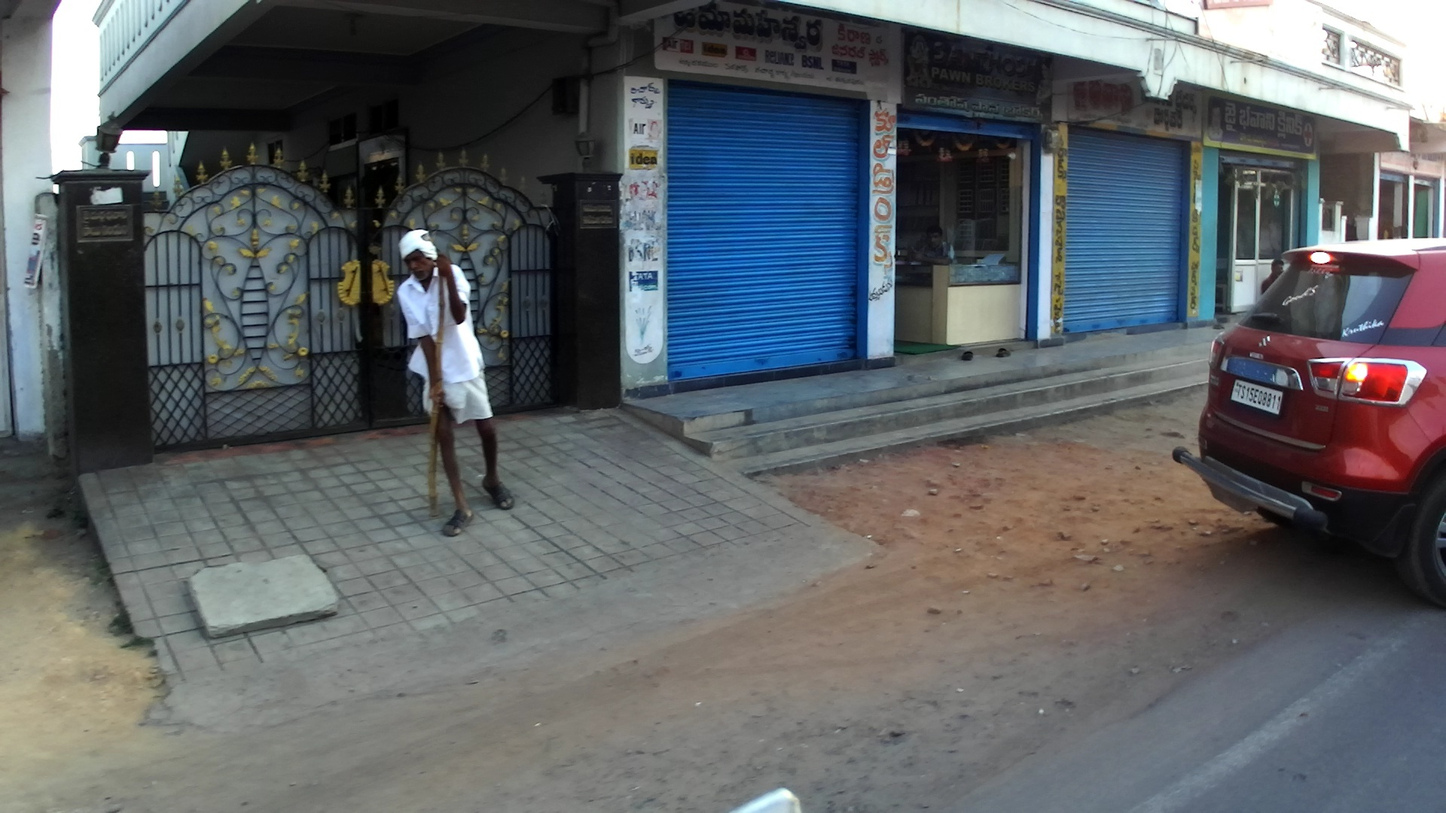car: (1173, 239, 1446, 611)
person: (393, 227, 516, 540), (912, 226, 959, 265), (1260, 258, 1285, 295)
